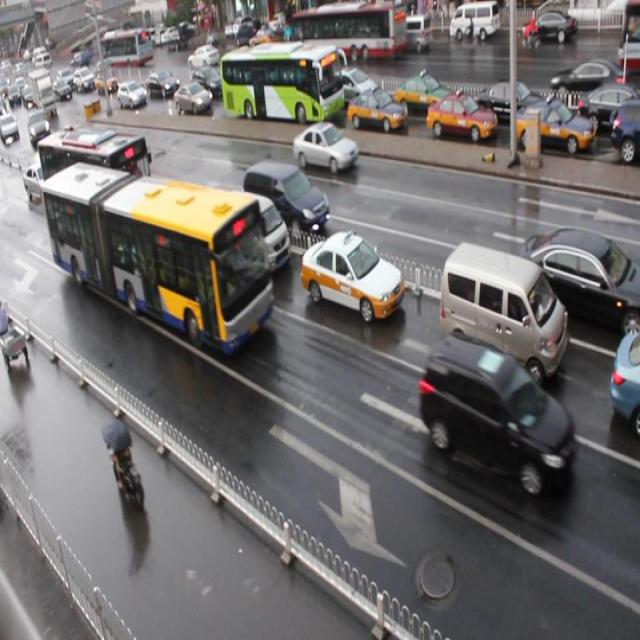car: (418, 335, 575, 499), (516, 229, 640, 338), (300, 229, 403, 321), (514, 100, 594, 160), (139, 188, 207, 252), (474, 78, 553, 128), (426, 91, 497, 145), (293, 122, 360, 174), (608, 330, 640, 433), (576, 87, 640, 132), (394, 71, 458, 116), (346, 88, 406, 134), (77, 127, 124, 173), (330, 62, 380, 103), (610, 100, 640, 161), (22, 159, 61, 204), (191, 64, 224, 101), (166, 82, 203, 114), (141, 68, 177, 97), (117, 80, 146, 106)
truck: (438, 240, 568, 389), (214, 187, 290, 282), (241, 159, 328, 240)
van: (42, 160, 274, 358), (38, 127, 154, 235), (216, 41, 339, 125)
